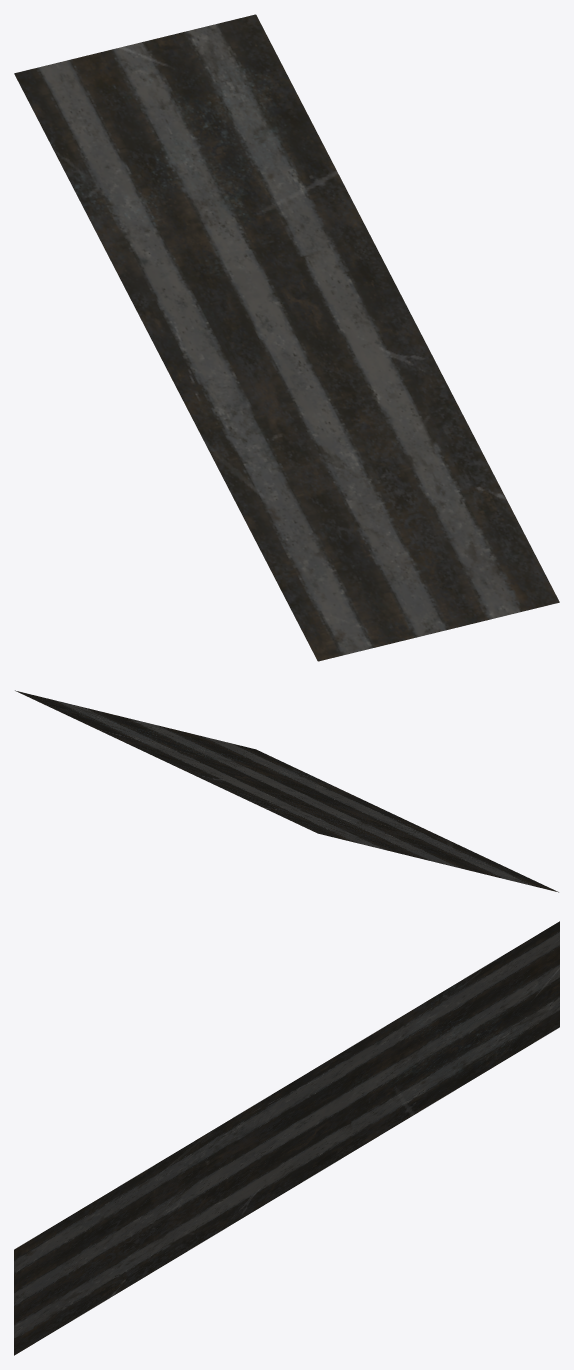
File: roof1x_reversed.fbx
The picture shows the model from 3 angles, top to bottom: view 1: azimuth 30°, elevation 25°; view 2: azimuth 150°, elevation 25°; view 3: azimuth 270°, elevation 25°; orthographic projection. The views are drawn at different scales.
Parts seen in each view (by area): view 1: roof1x_reversed; view 2: roof1x_reversed; view 3: roof1x_reversed.
Part boxes in pixels (left/top/right/bottom): roof1x_reversed: left=14, top=14, right=559, bottom=661; roof1x_reversed: left=15, top=690, right=558, bottom=892; roof1x_reversed: left=14, top=921, right=559, bottom=1355.
Size of the model in its own units: 100 by 144 by 217.
